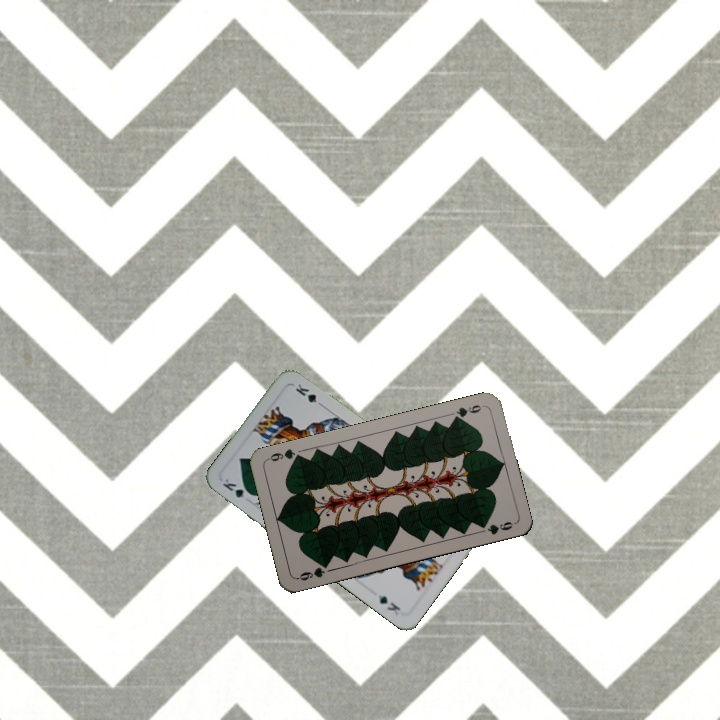G9: (293, 559, 332, 583), (449, 400, 487, 423)
GK: (218, 474, 256, 502)
